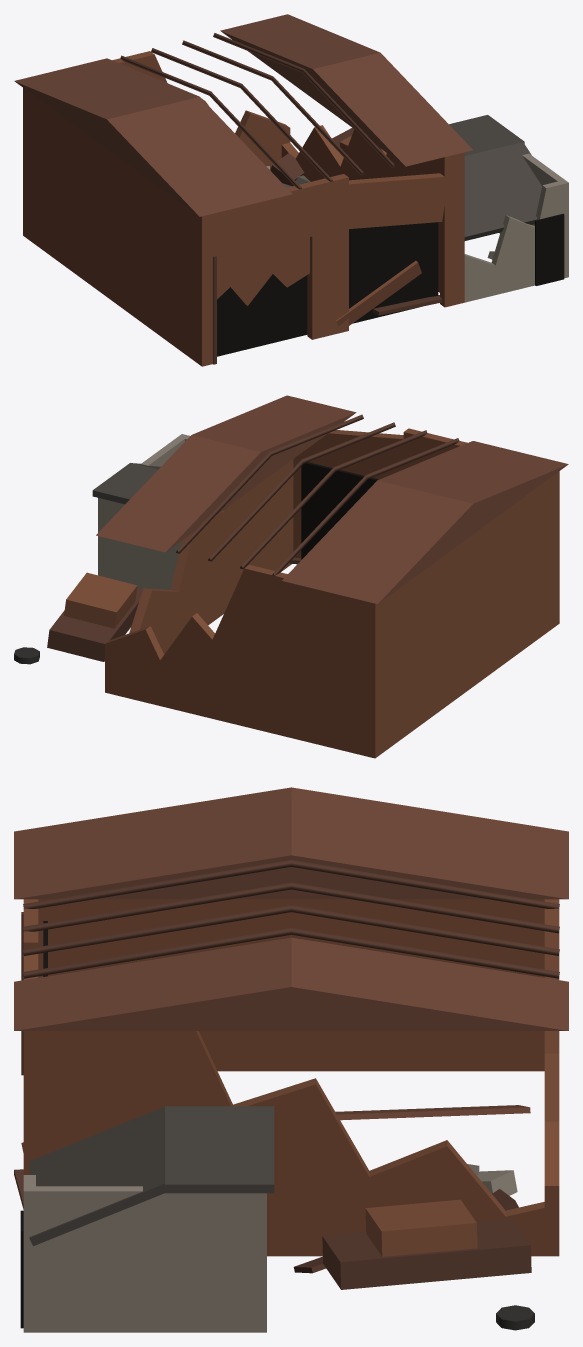
3 renders of one model, top to bottom at view 1: azimuth 30°, elevation 25°; view 2: azimuth 150°, elevation 25°; view 3: azimuth 270°, elevation 25°, orthographic. The views are drawn at different scales.
Visible parts, largest first — view 1: site_garage_ruin; view 2: site_garage_ruin; view 3: site_garage_ruin.
Part boxes in pixels (<box>): site_garage_ruin: <box>14,14,568,366</box>; site_garage_ruin: <box>14,395,568,758</box>; site_garage_ruin: <box>14,787,568,1332</box>.
Size of the model in its own units: 13.3 by 6.28 by 11.4.
